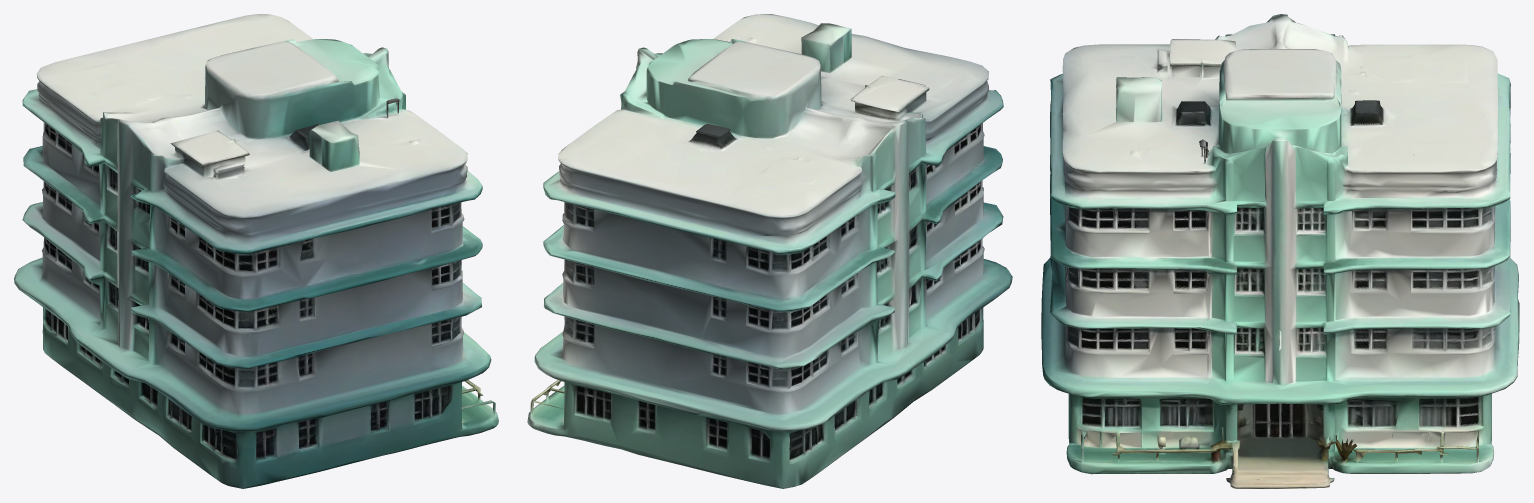
File: bld_hotel_4.glb
The picture shows the model from 3 angles, left to right: view 1: azimuth 30°, elevation 25°; view 2: azimuth 150°, elevation 25°; view 3: azimuth 270°, elevation 25°; orthographic projection. The views are drawn at different scales.
Parts seen in each view (by area): view 1: tripo_node_6617e87b-1f8b-4d11-a3d1-b5d8e7dd6e90; view 2: tripo_node_6617e87b-1f8b-4d11-a3d1-b5d8e7dd6e90; view 3: tripo_node_6617e87b-1f8b-4d11-a3d1-b5d8e7dd6e90.
Boxes of the visible parts, box(x1,y1,x2,y2) form: tripo_node_6617e87b-1f8b-4d11-a3d1-b5d8e7dd6e90: box(14, 14, 498, 488); tripo_node_6617e87b-1f8b-4d11-a3d1-b5d8e7dd6e90: box(527, 14, 1012, 488); tripo_node_6617e87b-1f8b-4d11-a3d1-b5d8e7dd6e90: box(1041, 14, 1519, 488).
Bounding box in the file's own units: 0.8336 × 0.7558 × 0.9785.
1 material, 1 textured.
